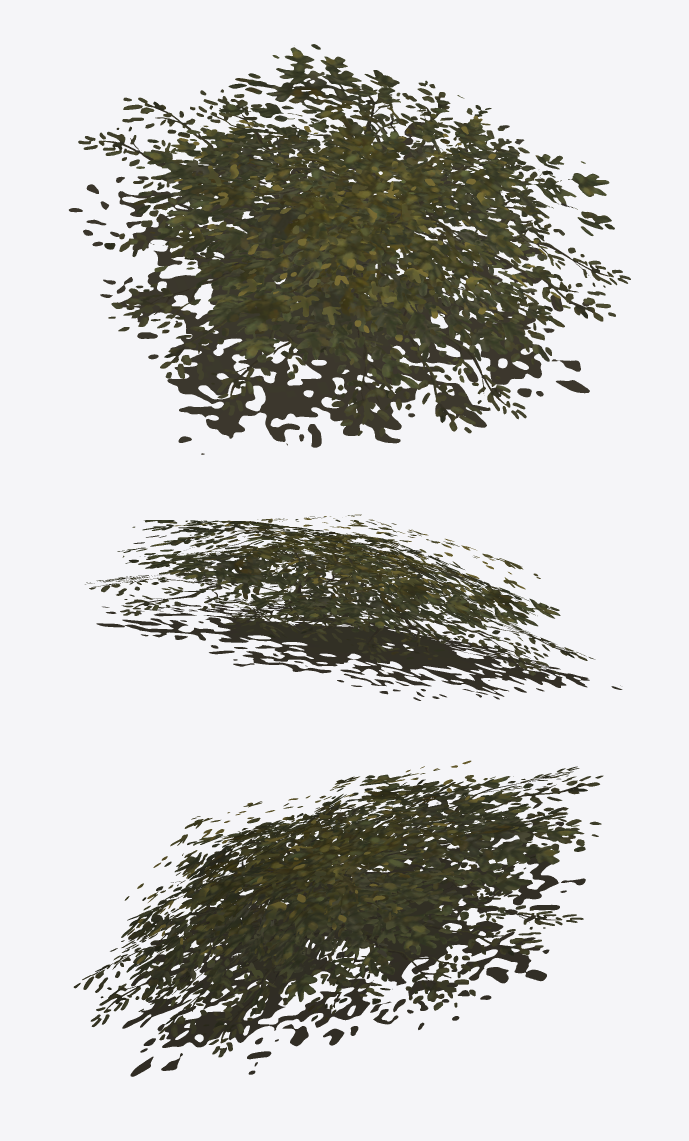
File: plants_bushes15.fbx
The picture shows the model from 3 angles, top to bottom: view 1: azimuth 30°, elevation 25°; view 2: azimuth 150°, elevation 25°; view 3: azimuth 270°, elevation 25°; orthographic projection. The views are drawn at different scales.
Parts seen in each view (by area): view 1: Material_#6642/bush_1; view 2: Material_#6642/bush_1; view 3: Material_#6642/bush_1.
Boxes of the visible parts, bbox=[...] form: Material_#6642/bush_1: bbox=[69, 44, 630, 454]; Material_#6642/bush_1: bbox=[85, 514, 622, 700]; Material_#6642/bush_1: bbox=[73, 760, 603, 1076].
Size of the model in its own units: 2.79 by 1.07 by 2.67.
